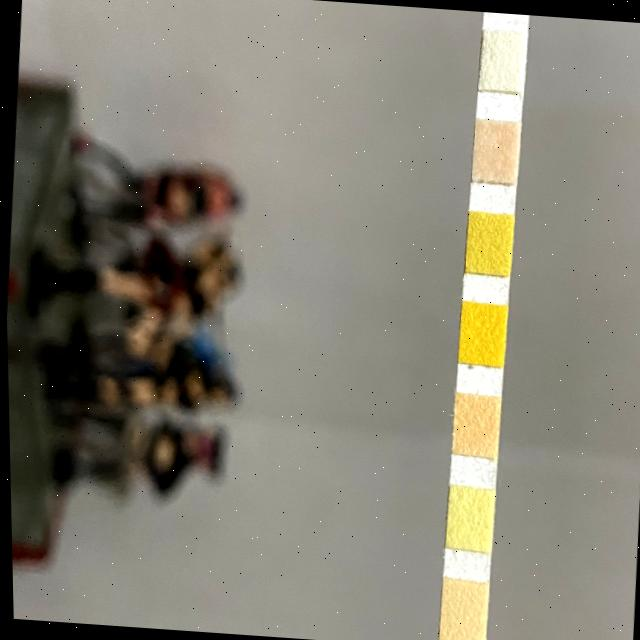Bilirubin: (477, 27, 526, 92)
Blood: (455, 301, 506, 365)
Ketone: (470, 119, 519, 182)
Protein: (442, 486, 494, 549)
SpGravity: (462, 210, 513, 273)
Urobilinogen: (435, 578, 486, 640)
pH: (449, 393, 498, 456)
